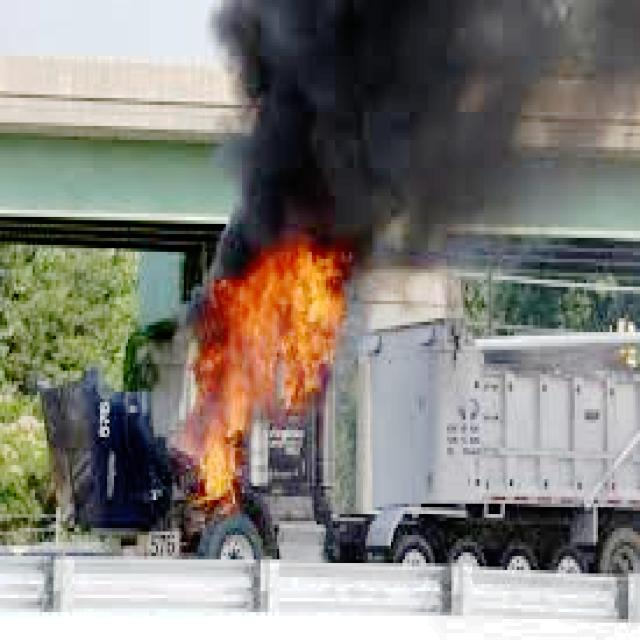api: (176, 246, 355, 494)
